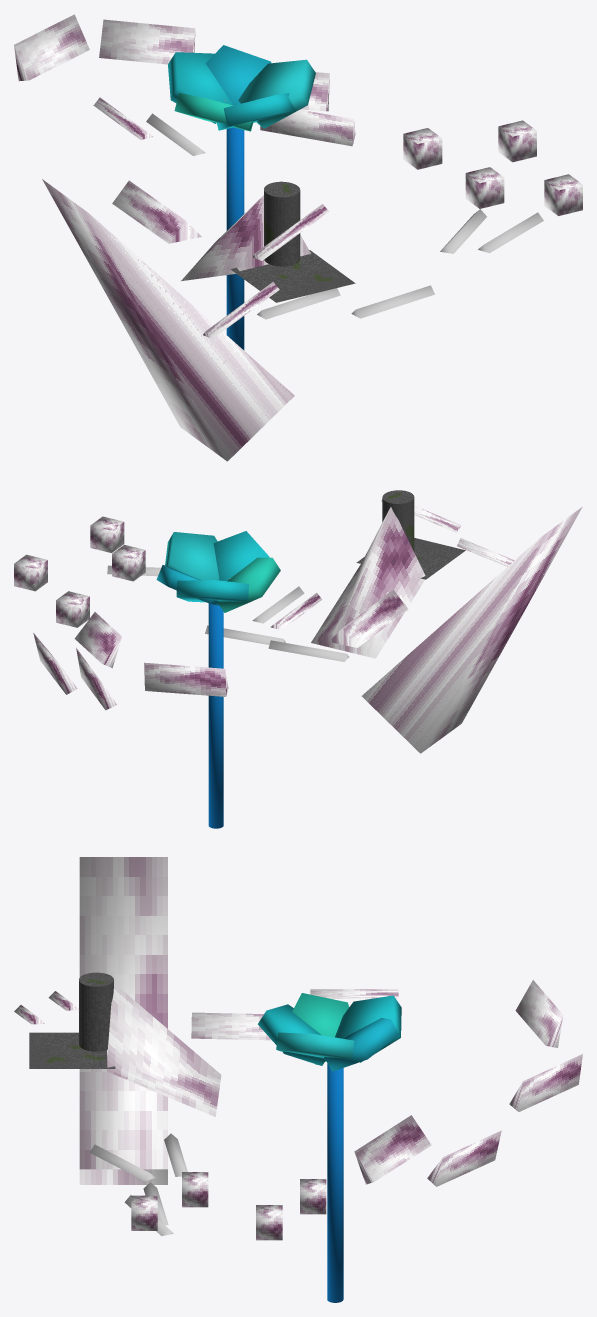
Rendered from KevWorldClouds.obj.
The picture shows the model from 3 angles, top to bottom: view 1: azimuth 30°, elevation 25°; view 2: azimuth 150°, elevation 25°; view 3: azimuth 270°, elevation 25°; orthographic projection. The views are drawn at different scales.
Parts seen in each view (by area): view 1: Basic_Ramp.012_Cube.022, Basic_Ramp.003_Cube.009, Basic_Ramp_Cube, Baseplane_Plane, Basic_Ramp.002_Cube.003, Cylinder.001, Cylinder.003, Cylinder.007, Basic_Ramp.001_Cube.025, Cylinder.002, Basic_Ramp.006_Cube.012, Cylinder.006 (+15 smaller); view 2: Basic_Ramp.012_Cube.022, Basic_Ramp_Cube, Cylinder.001, Basic_Ramp.002_Cube.003, Cylinder.003, Basic_Ramp.001_Cube.025, Cylinder.004, Basic_Ramp.006_Cube.012, Cylinder.005, Cylinder.002, Baseplane_Plane, Cylinder.007 (+13 smaller); view 3: Basic_Ramp.012_Cube.022, Basic_Ramp_Cube, Cylinder.001, Basic_Ramp.006_Cube.012, Cylinder.007, Baseplane_Plane, Basic_Ramp.003_Cube.009, Basic_Ramp.001_Cube.025, Basic_Ramp.002_Cube.003, Basic_Ramp.005_Cube.011, Cylinder.002, Cylinder.006 (+10 smaller).
Part boxes in pixels (x1,y1,x2,y2): Basic_Ramp.012_Cube.022: [42, 179, 294, 461]; Basic_Ramp.003_Cube.009: [99, 19, 195, 64]; Basic_Ramp_Cube: [181, 195, 310, 280]; Baseplane_Plane: [230, 250, 355, 302]; Basic_Ramp.002_Cube.003: [14, 14, 89, 81]; Cylinder.001: [226, 127, 244, 350]; Cylinder.003: [238, 59, 315, 128]; Cylinder.007: [264, 181, 300, 266]; Basic_Ramp.001_Cube.025: [112, 180, 201, 243]; Cylinder.002: [168, 52, 232, 123]; Basic_Ramp.006_Cube.012: [260, 109, 355, 146]; Cylinder.006: [205, 45, 271, 105]; Basic_Ramp.012_Cube.022: [361, 506, 582, 753]; Basic_Ramp_Cube: [311, 507, 425, 658]; Cylinder.001: [208, 603, 223, 828]; Basic_Ramp.002_Cube.003: [144, 662, 228, 696]; Cylinder.003: [165, 532, 219, 580]; Basic_Ramp.001_Cube.025: [329, 589, 408, 647]; Cylinder.004: [213, 531, 269, 581]; Basic_Ramp.006_Cube.012: [74, 612, 121, 668]; Cylinder.005: [218, 557, 280, 612]; Cylinder.002: [176, 580, 248, 602]; Baseplane_Plane: [356, 538, 465, 579]; Cylinder.007: [382, 490, 414, 551]; Basic_Ramp.012_Cube.022: [79, 857, 167, 1184]; Basic_Ramp_Cube: [107, 983, 221, 1116]; Cylinder.001: [327, 1063, 343, 1302]; Basic_Ramp.006_Cube.012: [354, 1115, 431, 1184]; Cylinder.007: [79, 972, 113, 1051]; Baseplane_Plane: [29, 1032, 115, 1068]; Basic_Ramp.003_Cube.009: [509, 1054, 582, 1111]; Basic_Ramp.001_Cube.025: [191, 1012, 271, 1040]; Basic_Ramp.002_Cube.003: [515, 980, 563, 1047]; Basic_Ramp.005_Cube.011: [427, 1130, 501, 1186]; Cylinder.002: [335, 995, 401, 1062]; Cylinder.006: [324, 1018, 399, 1071].
Size of the model in its own units: 1402 by 825 by 1360.
Materials: 24 (16 with a texture image).
